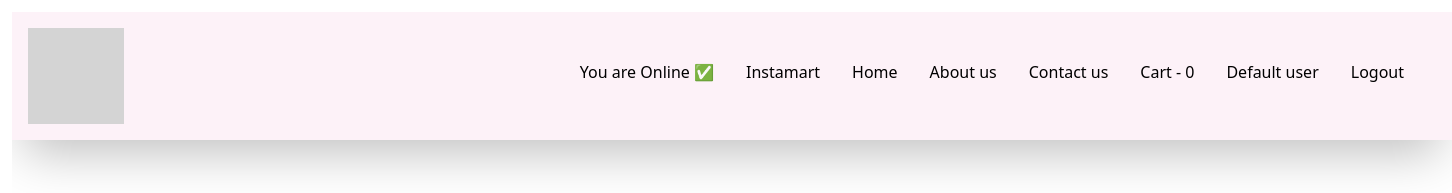
Test: should load Header Component with Logout Button
What coordinates should you click on to do the following:
click the button "Logout"
I would click on:
 (1377, 72)
Its box is [1351,60,1404,84].
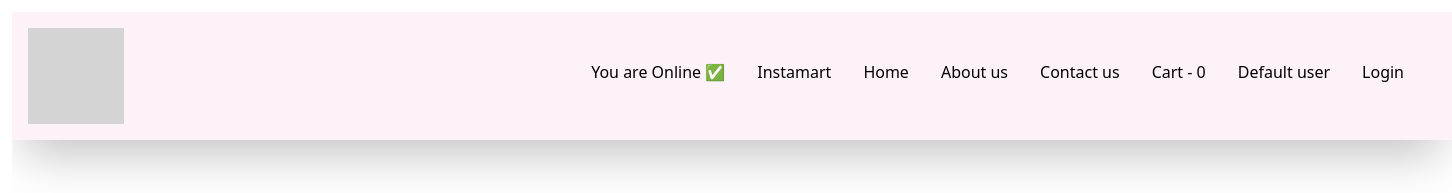
Check: the button "Login" is shown, box [1362,60,1404,84]
